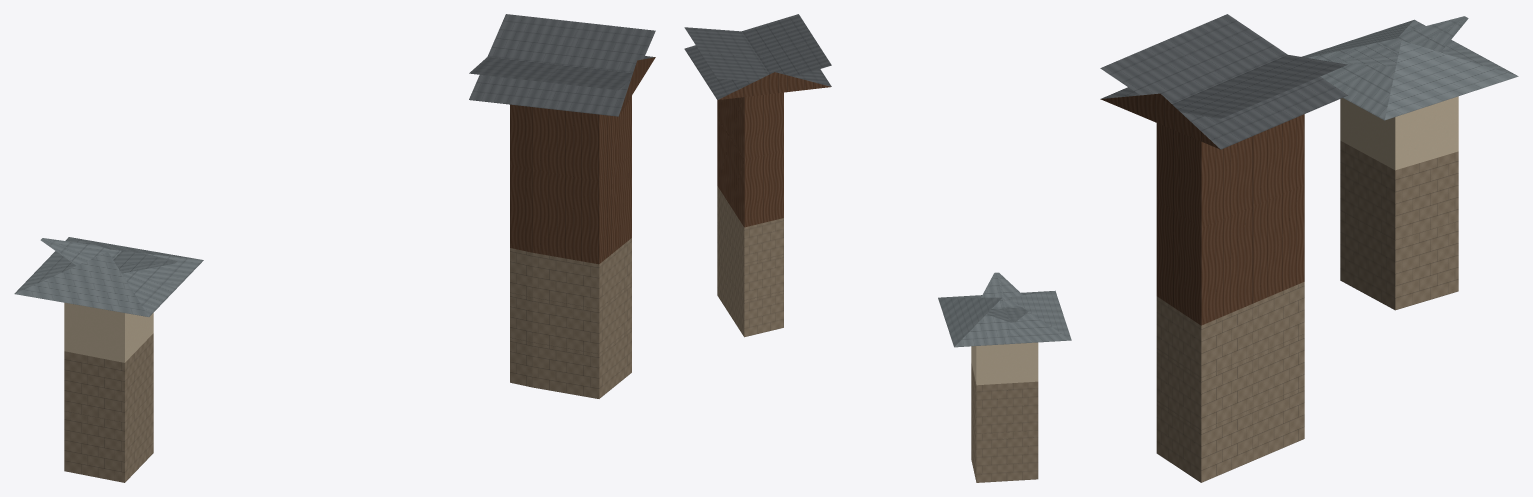
The model's file is bld_c37_-12_539.gltf.
The picture shows the model from 3 angles, left to right: view 1: azimuth 30°, elevation 25°; view 2: azimuth 150°, elevation 25°; view 3: azimuth 270°, elevation 25°; orthographic projection. The views are drawn at different scales.
Visible parts, largest first — view 1: bld_c37_-12_539; view 2: bld_c37_-12_539; view 3: bld_c37_-12_539.
Part boxes in pixels (x1=…): bld_c37_-12_539: x1=14, y1=14, x2=655, y2=482; bld_c37_-12_539: x1=684, y1=14, x2=1071, y2=482; bld_c37_-12_539: x1=1100, y1=14, x2=1518, y2=482.
Size of the model in its own units: 22.13 by 14.1 by 12.31.
Materials: 6 (6 with a texture image).
